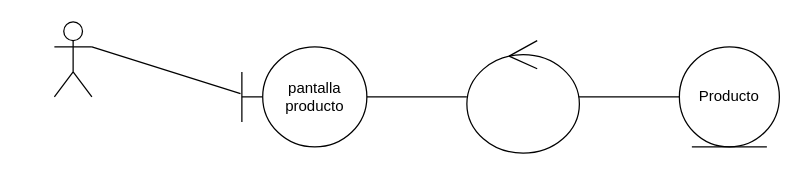
The diagram is 801 pixels wide and 175 high, and some of its shapes have lost their labels. Each missing label, with the centre of its shape:
Ad ministrador: point (72, 59)
Control Producto: point (522, 96)
